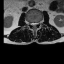CCS_normal: (33, 20, 35, 29)
LFS_normal: (37, 19, 39, 26)
LLS_normal: (35, 20, 37, 27)
RFS_normal: (29, 20, 31, 27)
RLS_normal: (31, 20, 33, 27)
